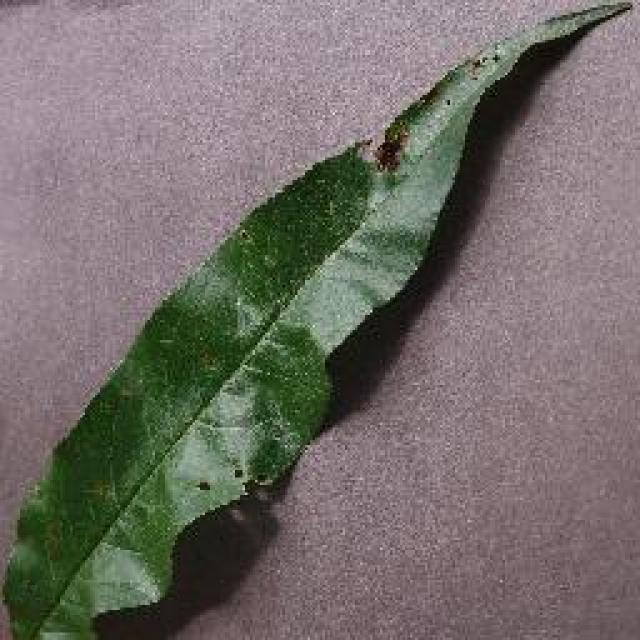Peach_Bacterial_Spot: (348, 133, 442, 210)
